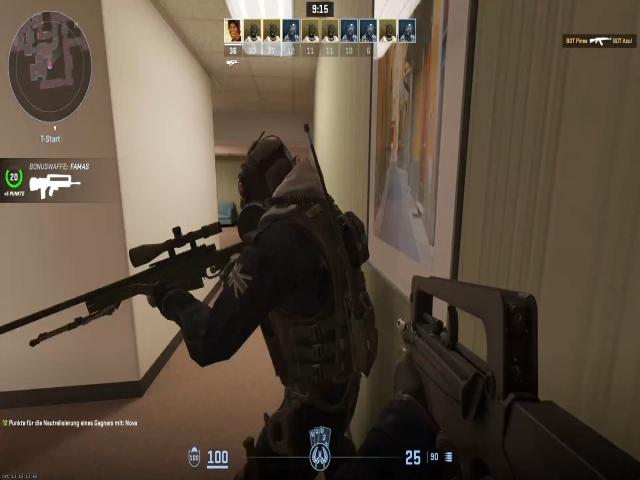CT: (216, 111, 366, 448)
CT-Head: (236, 124, 308, 232)
